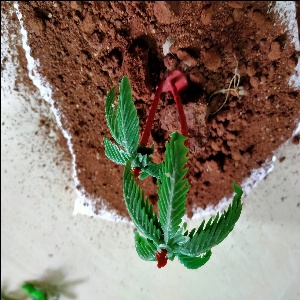plant: (105, 73, 246, 271)
